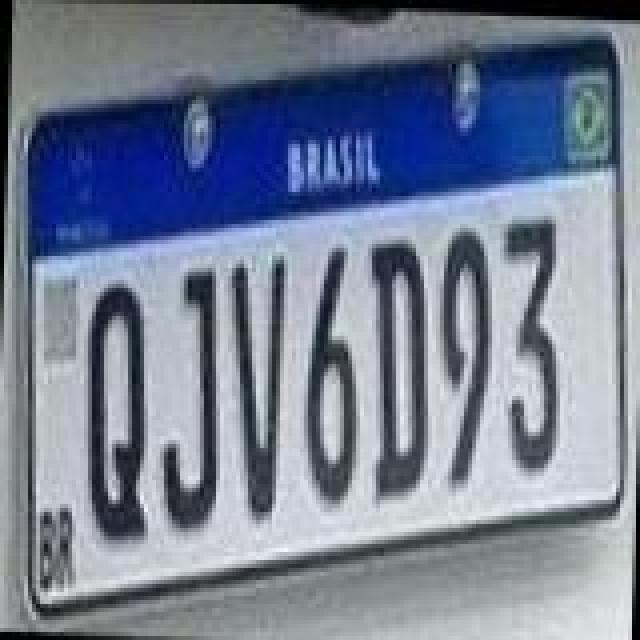3: (492, 210, 564, 474)
6: (304, 244, 364, 500)
9: (434, 226, 494, 486)
D: (362, 232, 434, 500)
J: (156, 266, 224, 530)
Q: (78, 276, 154, 544)
V: (222, 252, 286, 516)
